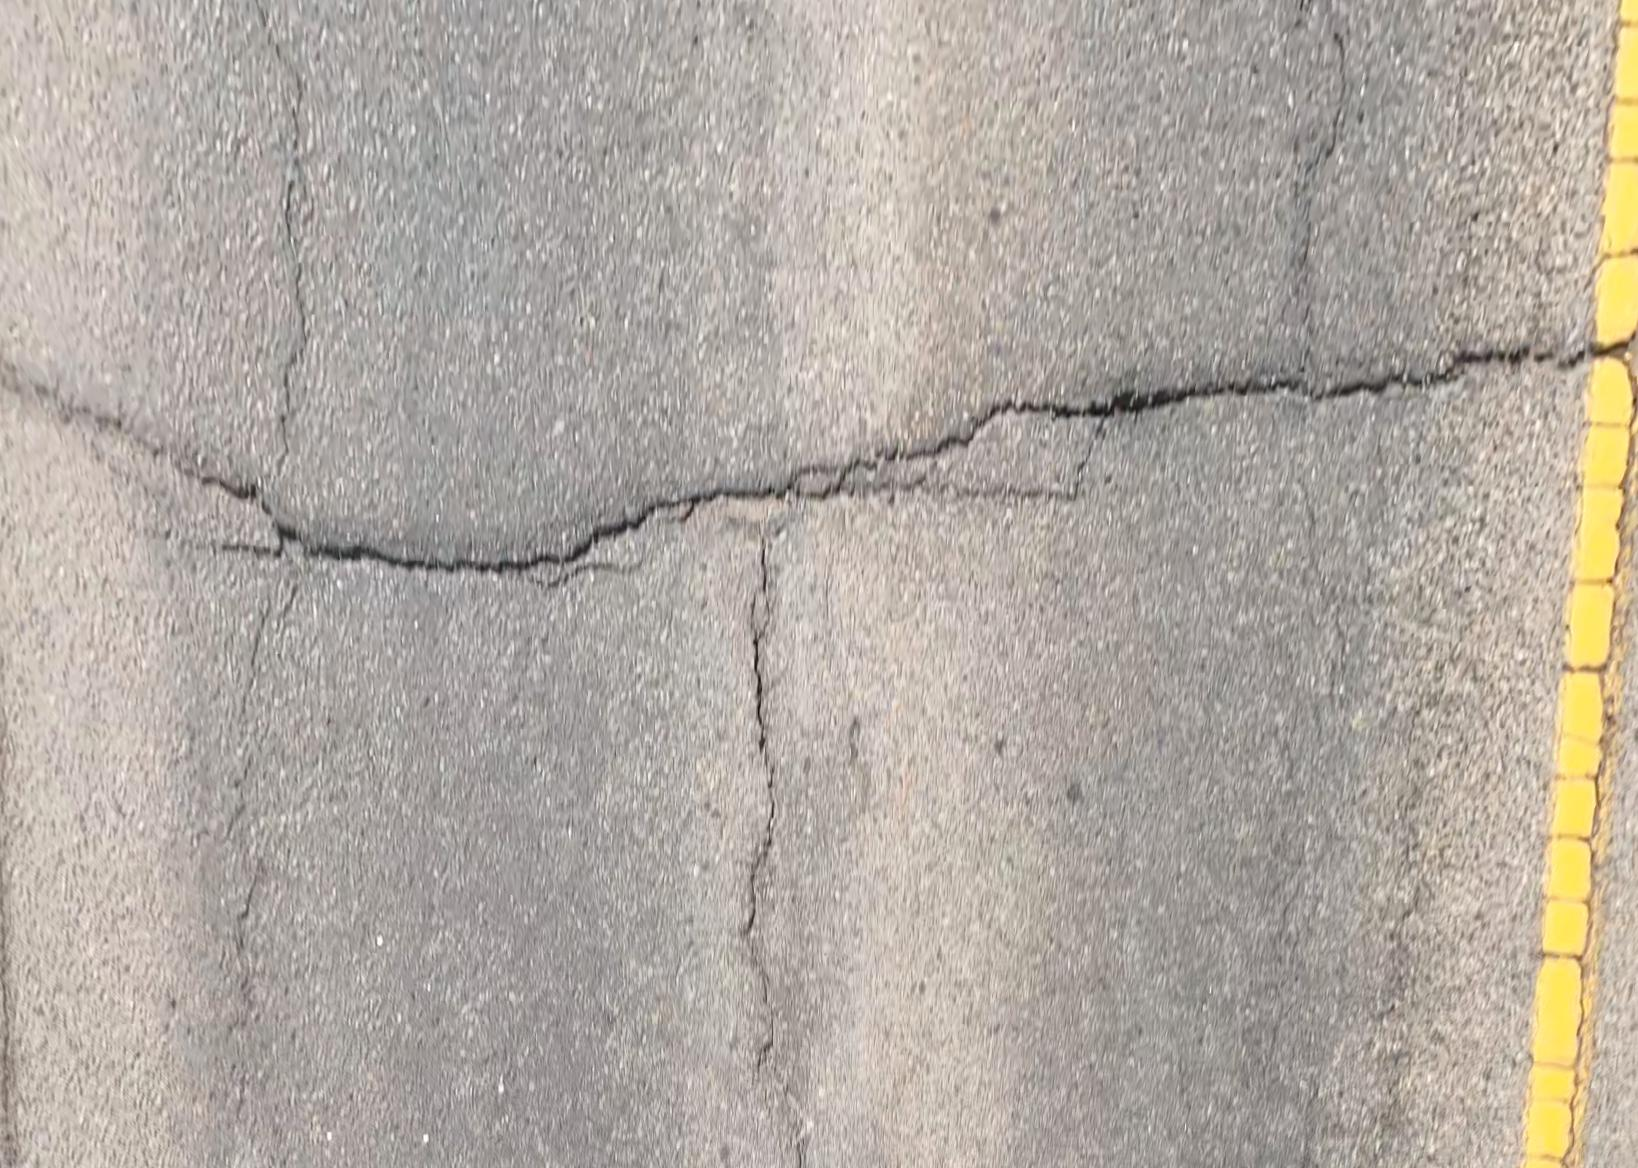pothole: (676, 488, 790, 545), (276, 523, 364, 575)
